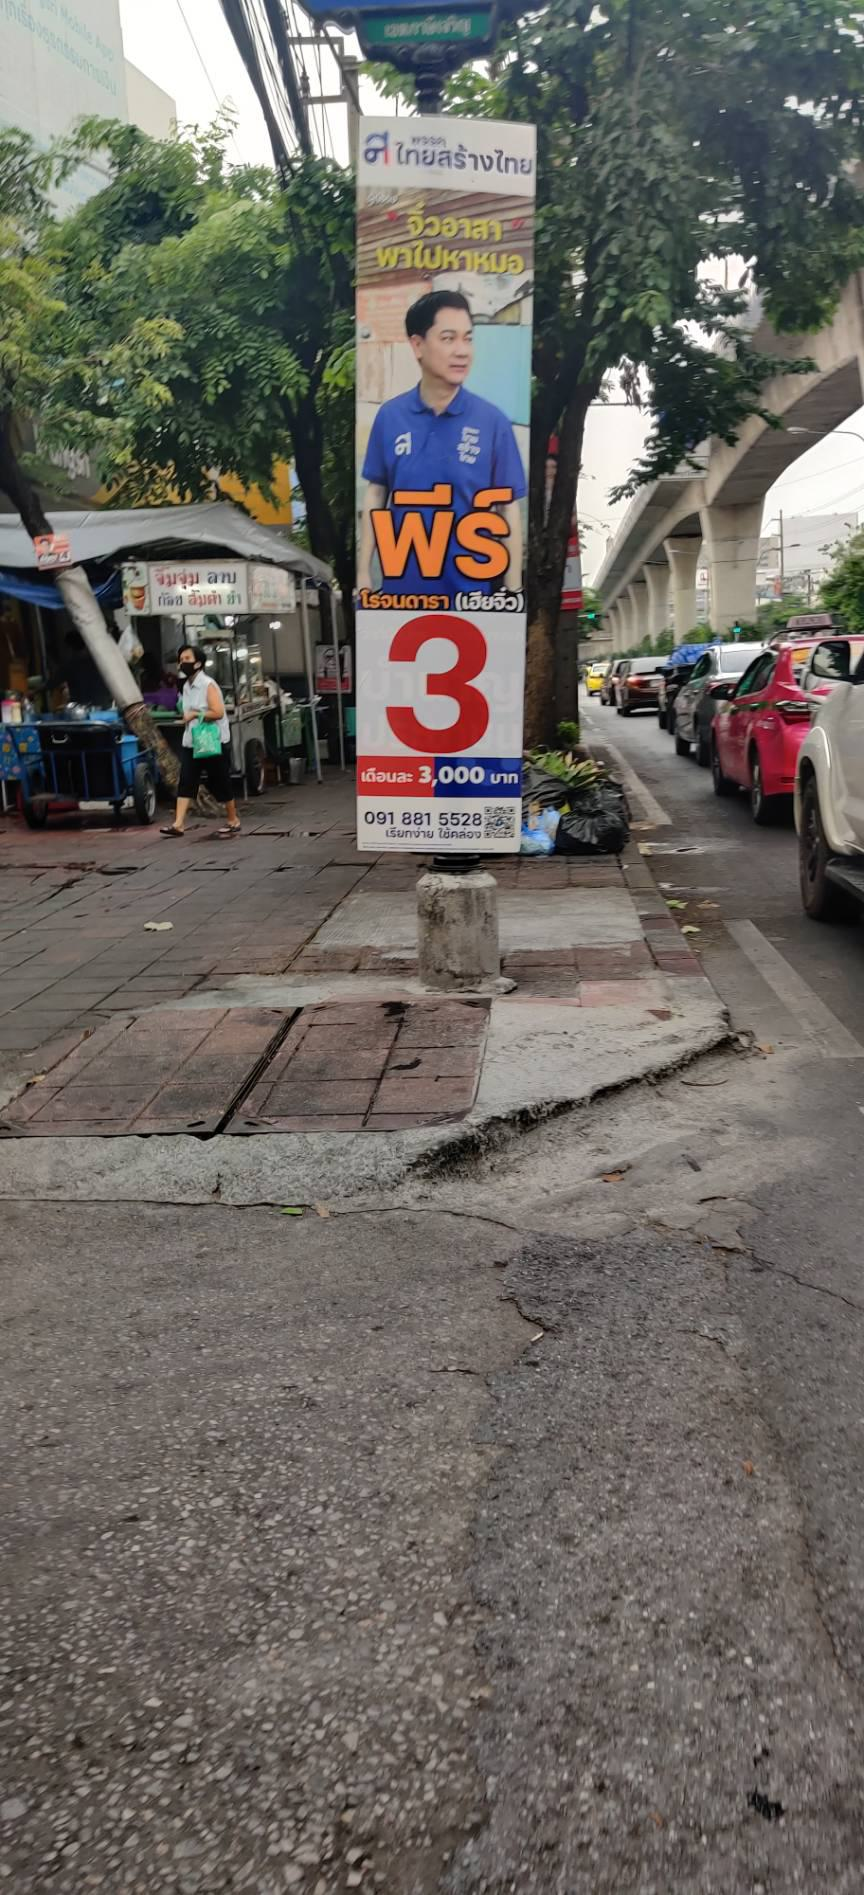Banner: (344, 105, 524, 862)
